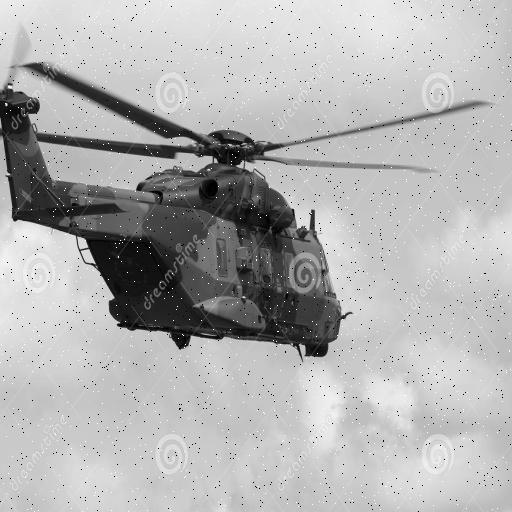helicopter: (1, 25, 500, 357)
